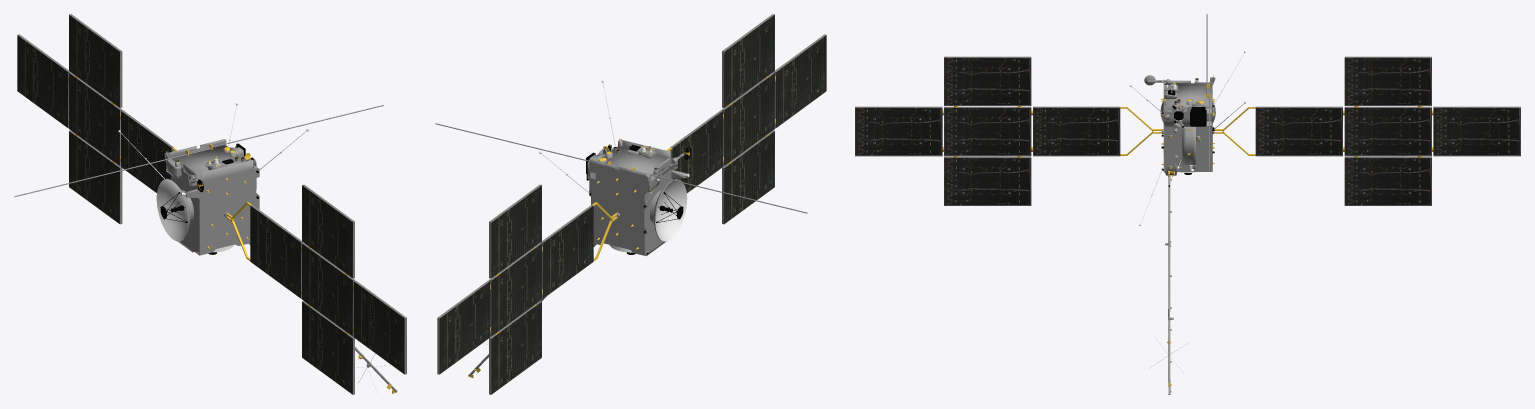
The model's file is juice.glb.
The picture shows the model from 3 angles, left to right: view 1: azimuth 30°, elevation 25°; view 2: azimuth 150°, elevation 25°; view 3: azimuth 270°, elevation 25°; orthographic projection. The views are drawn at different scales.
Parts seen in each view (by area): view 1: right_panel, left_panel, bus, hga, rime; view 2: left_panel, right_panel, bus, hga, rime, things; view 3: left_panel, right_panel, bus, magboom.
Part boxes in pixels (x1,y1,x2,y2): right_panel: (226, 184, 406, 394); left_panel: (17, 14, 177, 224); bus: (160, 139, 259, 255); hga: (156, 179, 188, 241); rime: (14, 105, 383, 197); left_panel: (437, 184, 617, 394); right_panel: (666, 14, 826, 224); bus: (587, 139, 685, 256); hga: (655, 179, 687, 241); rime: (435, 123, 807, 213); things: (590, 138, 689, 255); left_panel: (1214, 56, 1520, 205); right_panel: (855, 56, 1161, 205); bus: (1144, 75, 1215, 175); magboom: (1149, 171, 1189, 394).
Size of the model in its own units: 14.91 by 11.88 by 26.98.
Materials: 7 (1 with a texture image).
